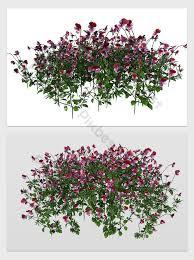ylang-ylang: (81, 2, 178, 160), (14, 59, 100, 232)
